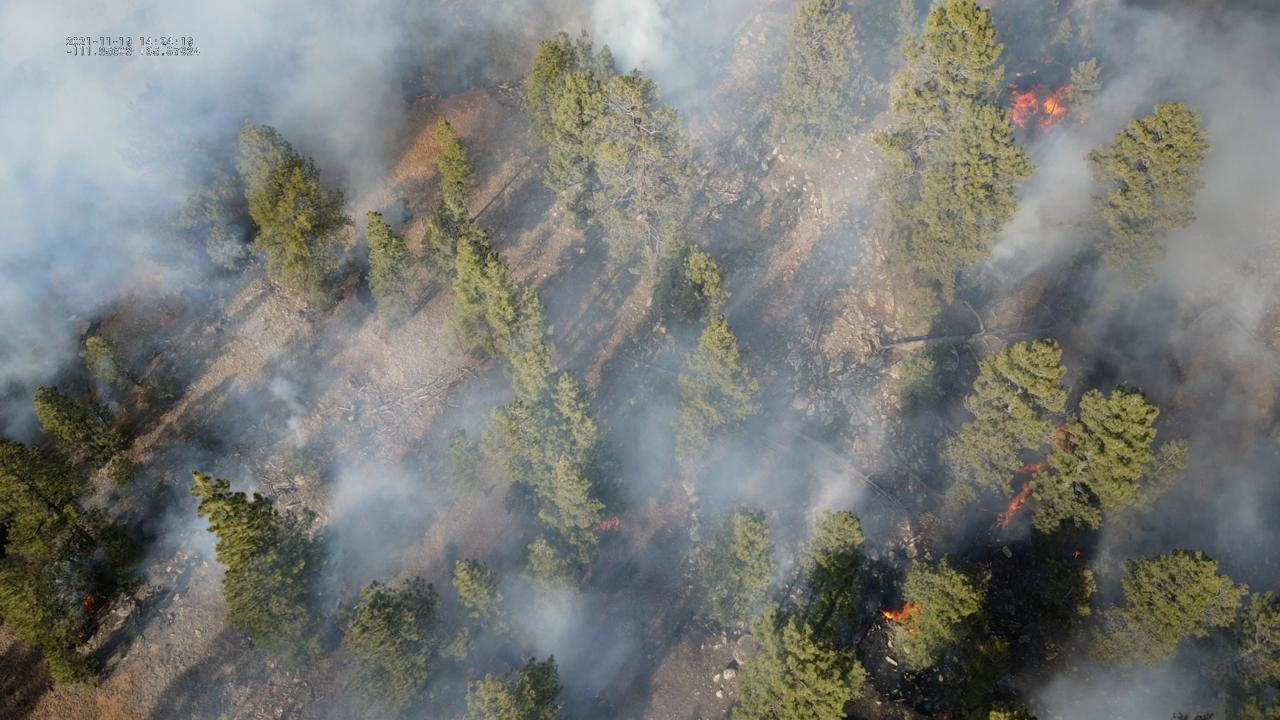fire: (1005, 83, 1075, 132), (992, 480, 1032, 529), (878, 602, 924, 622), (1052, 421, 1076, 450), (592, 515, 621, 532), (1014, 461, 1048, 474), (79, 595, 97, 614), (417, 93, 445, 105), (1072, 550, 1082, 559), (995, 538, 1001, 544), (1015, 72, 1022, 77)
smoke: (0, 0, 1280, 720)
